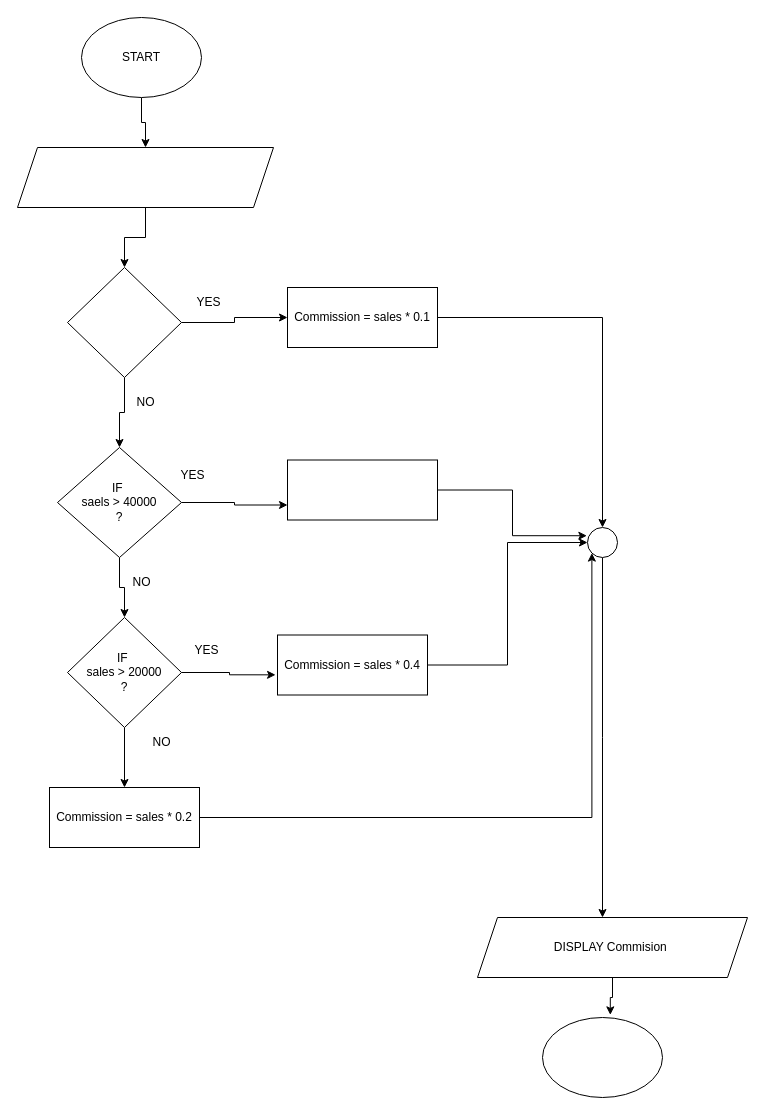
Image size: 765x1115. Some labels were removed from this diagram. Here are the shapes that lost their labels. From the top down, the box of each, then its label:
(16, 146, 274, 208): INPUT sales
(66, 266, 182, 378): IF sales > 60000 ?
(286, 459, 438, 520): Commission = sales * 0.7
(542, 1016, 662, 1098): END
